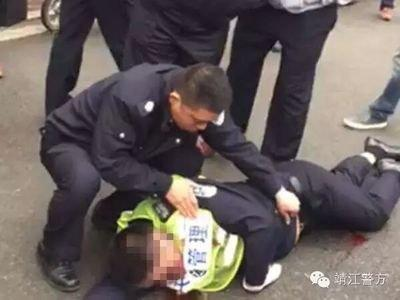Fall-Detected: (77, 135, 400, 296)
